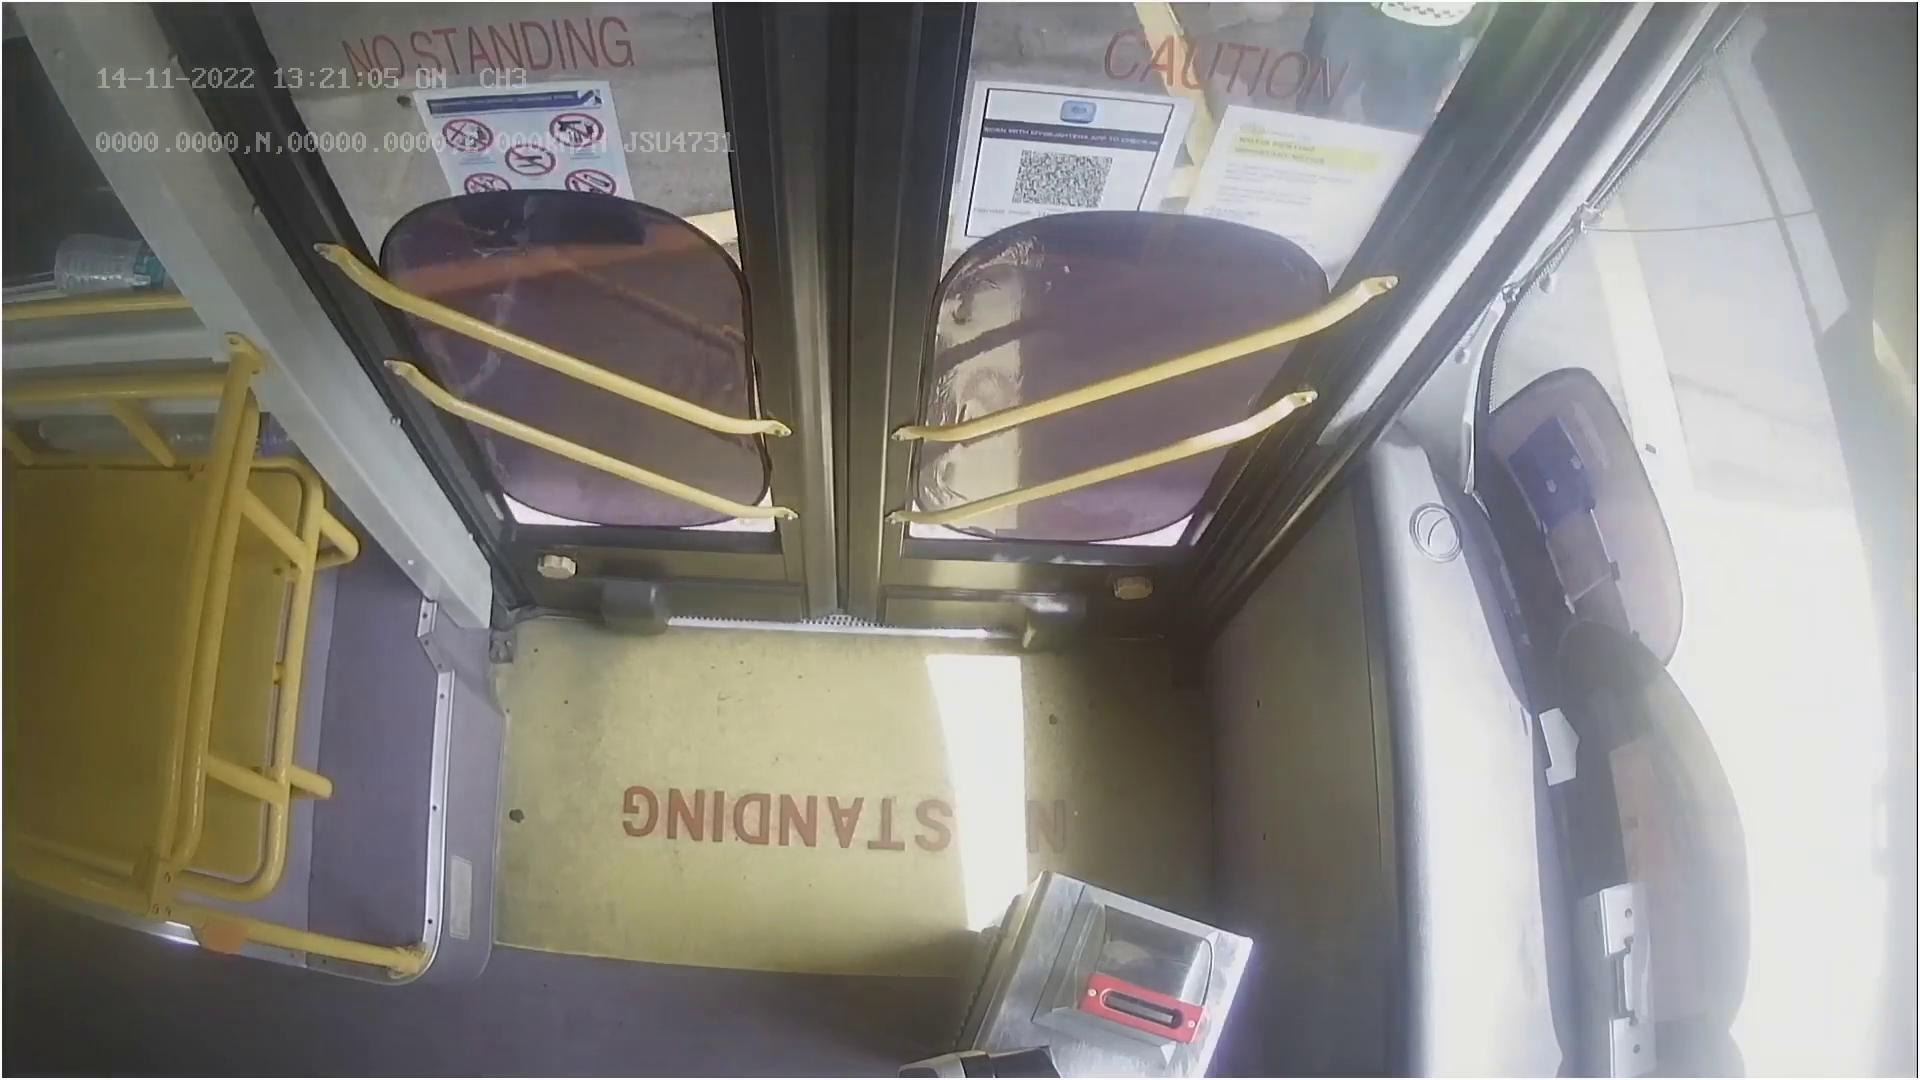close: (285, 0, 1458, 140)
